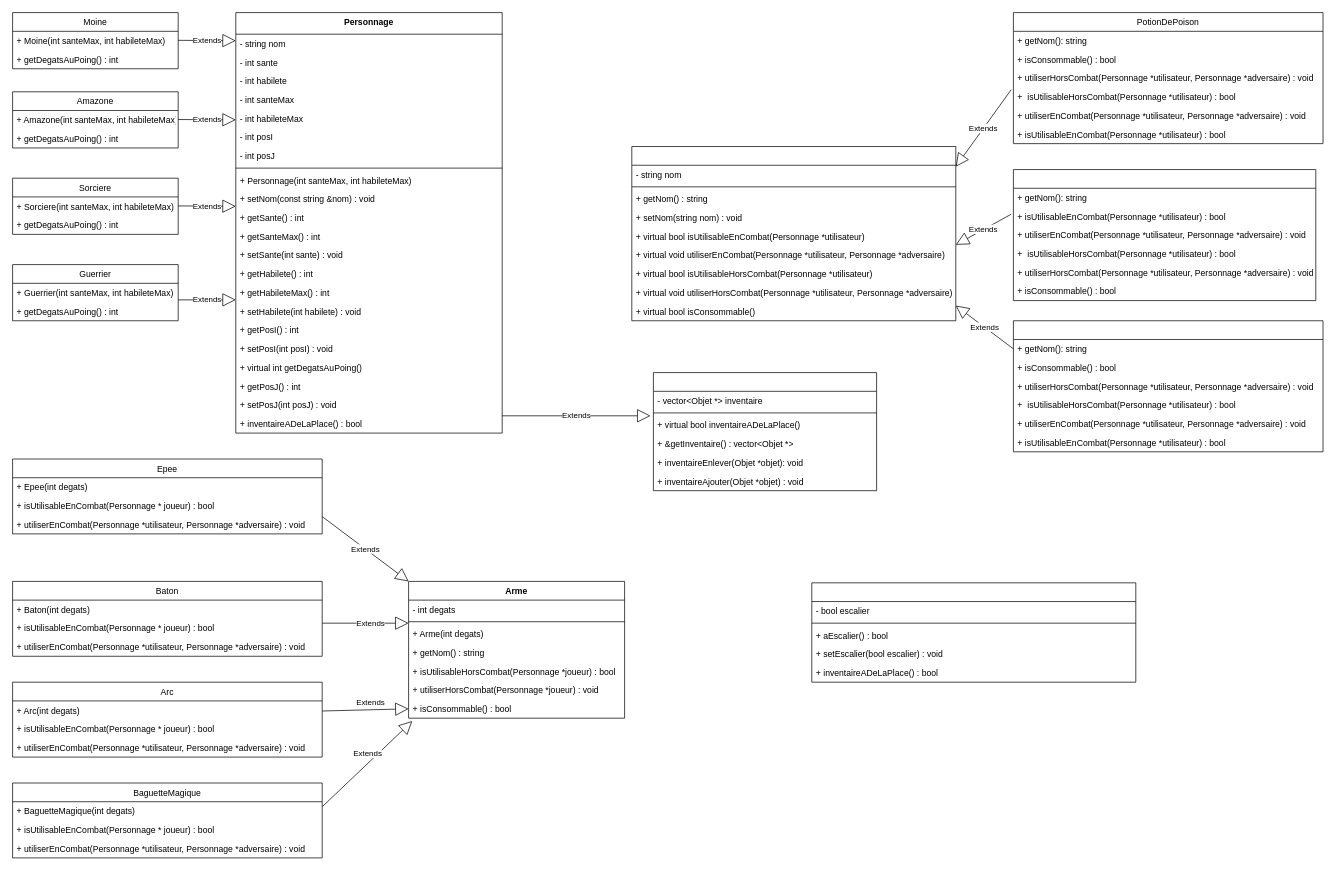
Some shapes in this 1336 by 873 pixel diagram are drawn without their labels. Here are the shapes that lost their labels. From the top down, the box of each, then its label:
(631, 146, 956, 321): Objet
(1013, 169, 1316, 301): CleDeTransportation
(1013, 320, 1323, 452): PotionDeSoin
(653, 372, 877, 491): PossedeInventaire
(811, 582, 1136, 682): Piece
